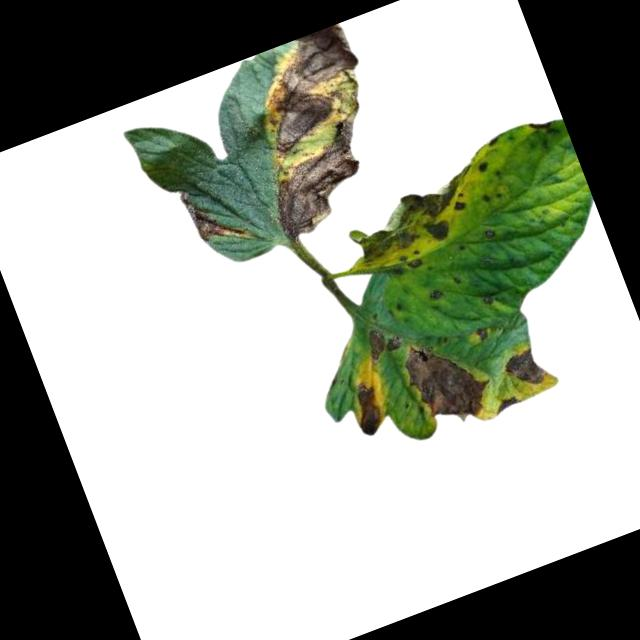Early_blight: (221, 22, 409, 239), (345, 167, 489, 270), (400, 325, 500, 435), (177, 173, 251, 256), (345, 377, 390, 439), (497, 343, 547, 394), (362, 319, 406, 361), (491, 393, 522, 415), (527, 114, 555, 135), (404, 253, 424, 272), (474, 322, 491, 340), (473, 158, 490, 175), (426, 284, 443, 301), (481, 225, 498, 239)
